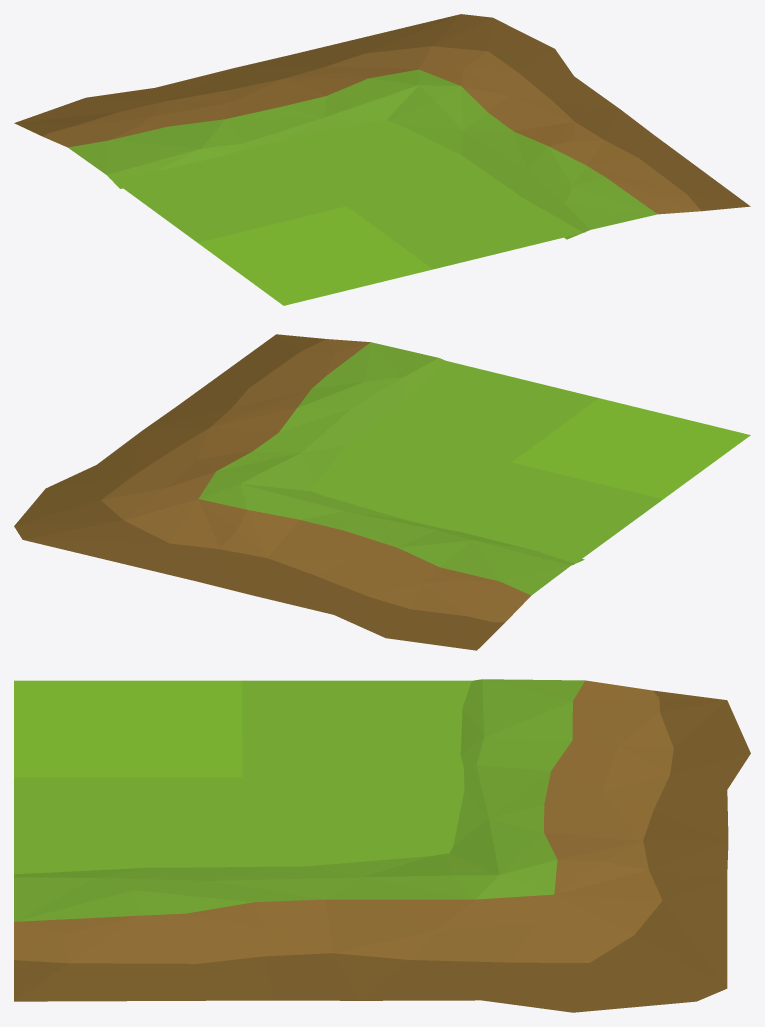
File: sidewalk_ forest_corner.fbx
3 views of the same model, one above another, from view 1: azimuth 30°, elevation 25°; view 2: azimuth 150°, elevation 25°; view 3: azimuth 270°, elevation 25° (orthographic). The views are drawn at different scales.
Parts seen in each view (by area): view 1: sidewalk_ forest_corner; view 2: sidewalk_ forest_corner; view 3: sidewalk_ forest_corner.
Part boxes in pixels (box(x1,y1,x2,y2)): sidewalk_ forest_corner: box(14, 14, 750, 305); sidewalk_ forest_corner: box(14, 334, 750, 650); sidewalk_ forest_corner: box(14, 679, 750, 1012).
Bounding box in the file's own units: 1080 × 51.57 × 1080.
